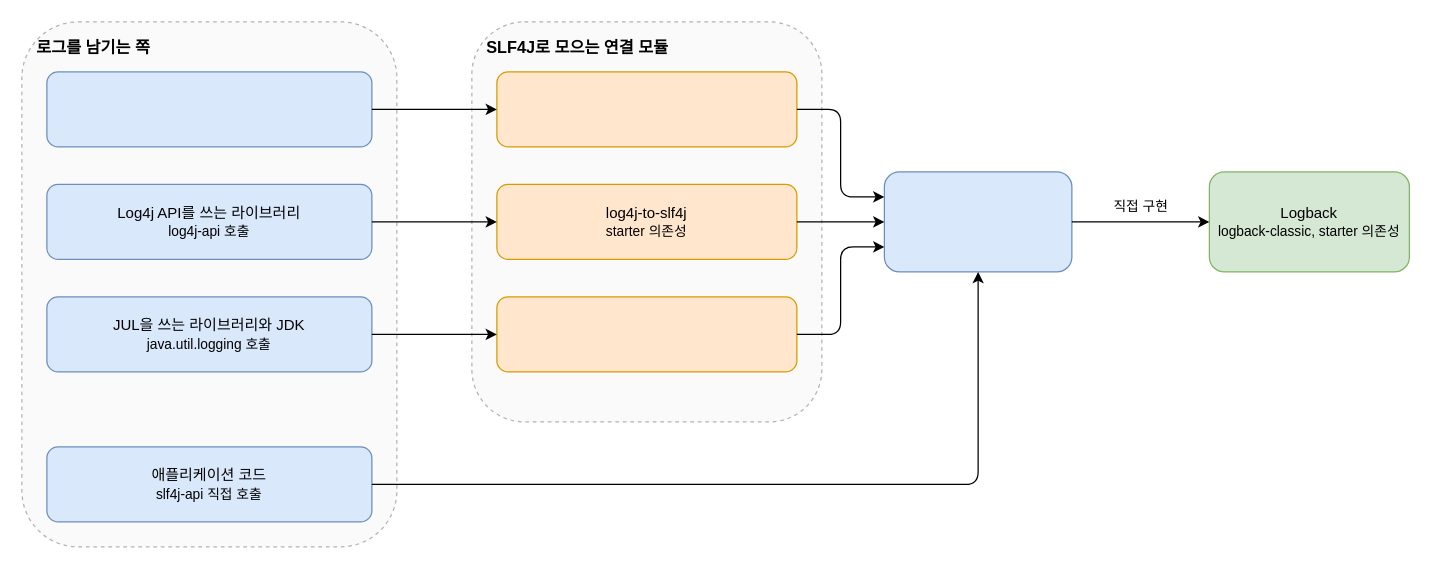
Image size: 1431x569. Some labels were removed from this diagram. The shapes that lost their labels are listed below. From the top down, each one's centre as x and y in pixels, then its label:
At (x=209, y=109): "Spring Framework 내부 코드 JCL API 호출 (commons-logging 1.3+)".
At (x=646, y=109): "Slf4jLogFactory commons-logging 1.3+에 내장".
At (x=977, y=221): "SLF4J slf4j-api".
At (x=646, y=334): "jul-to-slf4j SLF4JBridgeHandler, starter 의존성".
